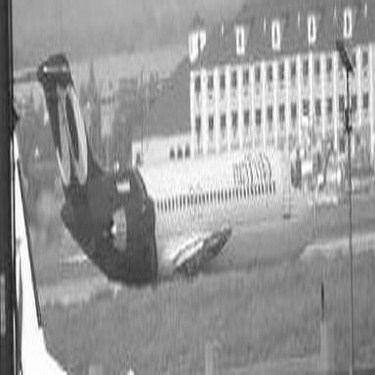airplane: (6, 4, 374, 372), (4, 46, 331, 298)
